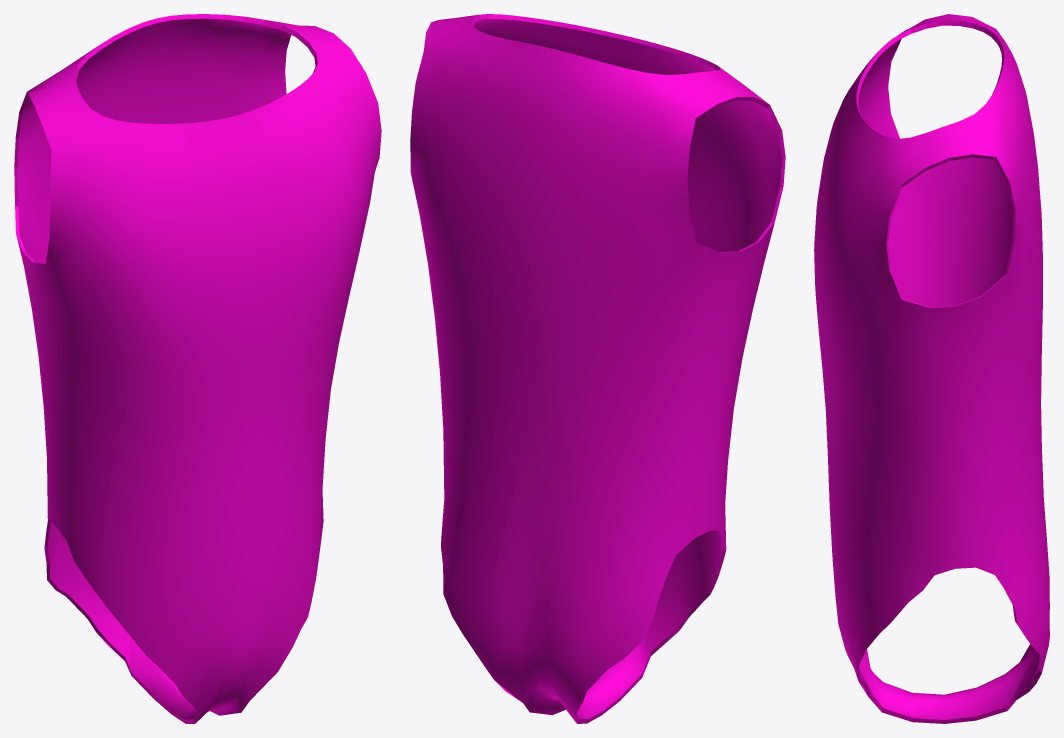
File: BallerinaSuit.fbx
The picture shows the model from 3 angles, left to right: view 1: azimuth 30°, elevation 25°; view 2: azimuth 150°, elevation 25°; view 3: azimuth 270°, elevation 25°; orthographic projection. The views are drawn at different scales.
Visible parts, largest first — view 1: Cylinder003; view 2: Cylinder003; view 3: Cylinder003.
Boxes of the visible parts, <box> form: Cylinder003: <box>14,14,381,723</box>; Cylinder003: <box>410,14,785,723</box>; Cylinder003: <box>814,14,1049,723</box>.
Size of the model in its own units: 12.73 by 24.61 by 7.96.
